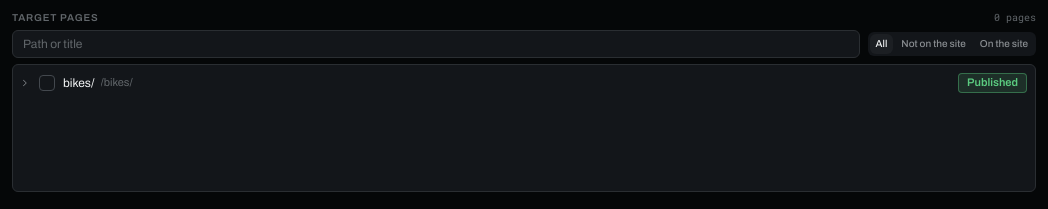
it: the run start's targets › asks the run which parents it writes first for the settled pick, and says so on each
Click the button named "Expand": (25, 83) x1=17 y1=75 x2=33 y2=91
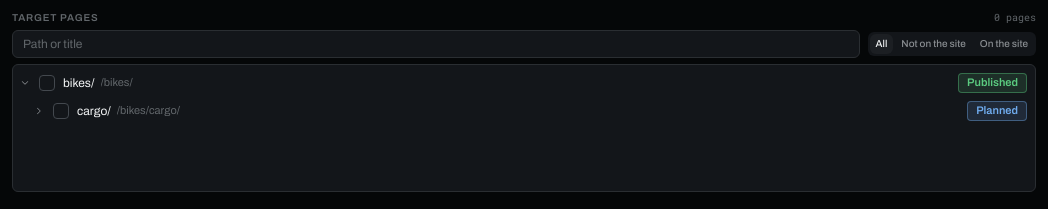
Click the button named "Expand": (39, 111) x1=31 y1=103 x2=47 y2=119
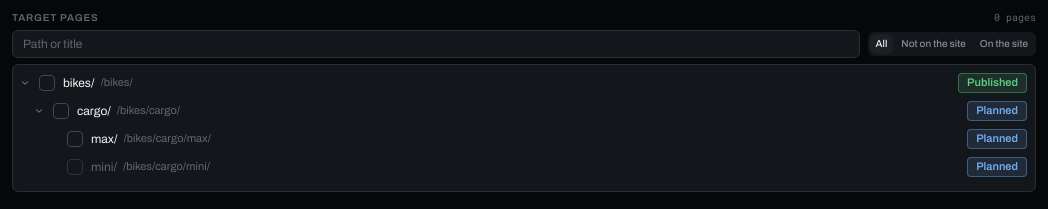
Click the checkbox labelled "max/": (92, 139) x1=67 y1=131 x2=118 y2=147
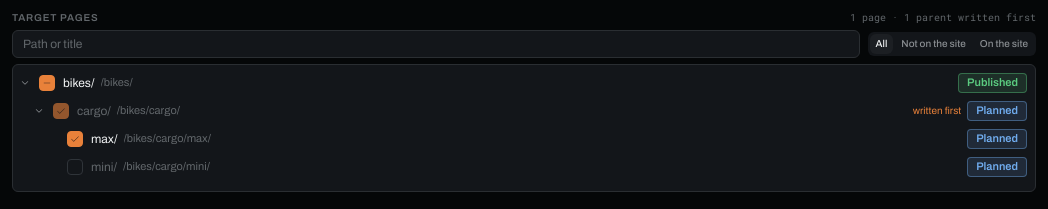
Now the text "written first" is shown, box x1=913 y1=105 x2=961 y2=117
Now the checkbox labelled "cargo/" is checked, box x1=53 y1=103 x2=111 y2=119
Now the checkbox labelled "cargo/" is disabled, box x1=53 y1=103 x2=111 y2=119
